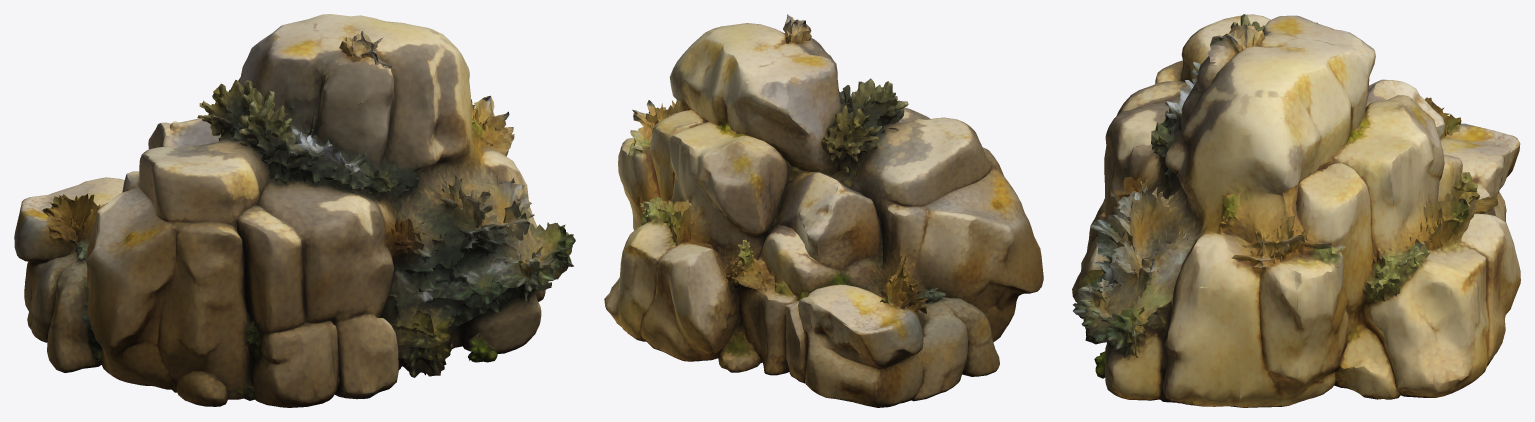
File: nat_rock_outcrop.glb
3 renders of one model, left to right at view 1: azimuth 30°, elevation 25°; view 2: azimuth 150°, elevation 25°; view 3: azimuth 270°, elevation 25°, orthographic. The views are drawn at different scales.
Parts seen in each view (by area): view 1: geometry_0; view 2: geometry_0; view 3: geometry_0.
Part boxes in pixels (bbox=[...]): geometry_0: bbox=[14, 14, 575, 407]; geometry_0: bbox=[604, 14, 1043, 407]; geometry_0: bbox=[1072, 14, 1520, 407].
Size of the model in its own units: 0.3 by 0.1992 by 0.2478.
Materials: 1 (1 with a texture image).
